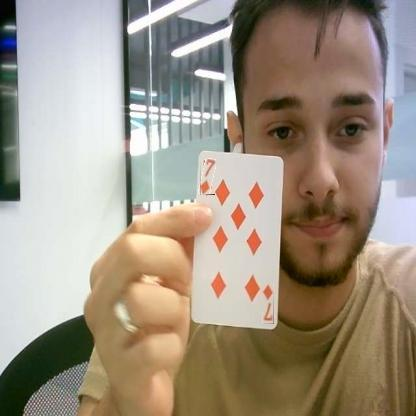7D: (200, 159, 215, 195), (262, 284, 274, 324)
